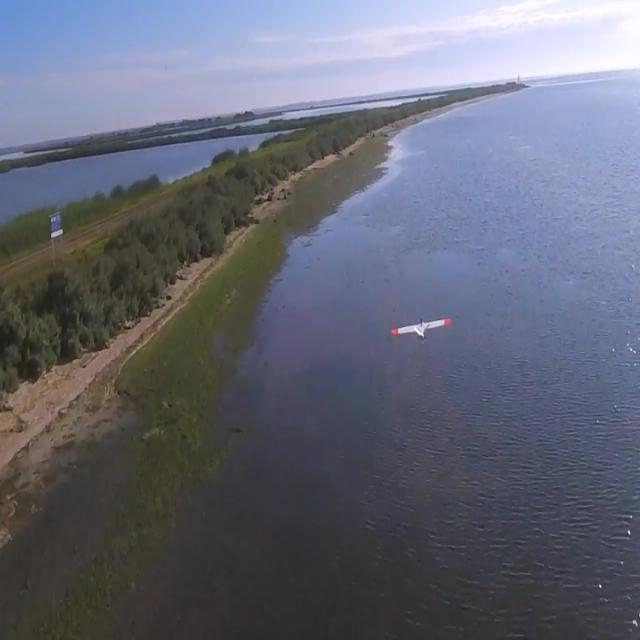iha: (389, 310, 451, 341)
